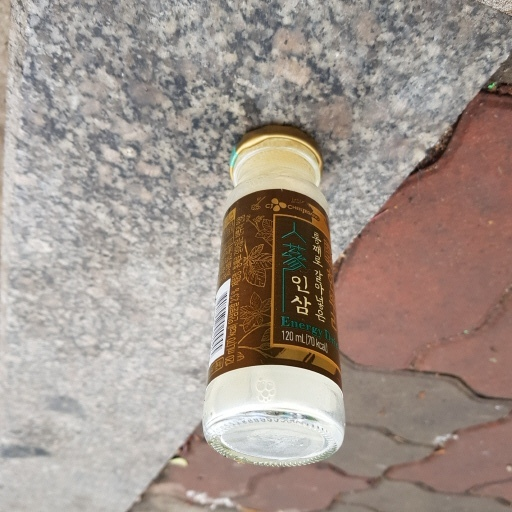Glass_4: (202, 121, 346, 466)
